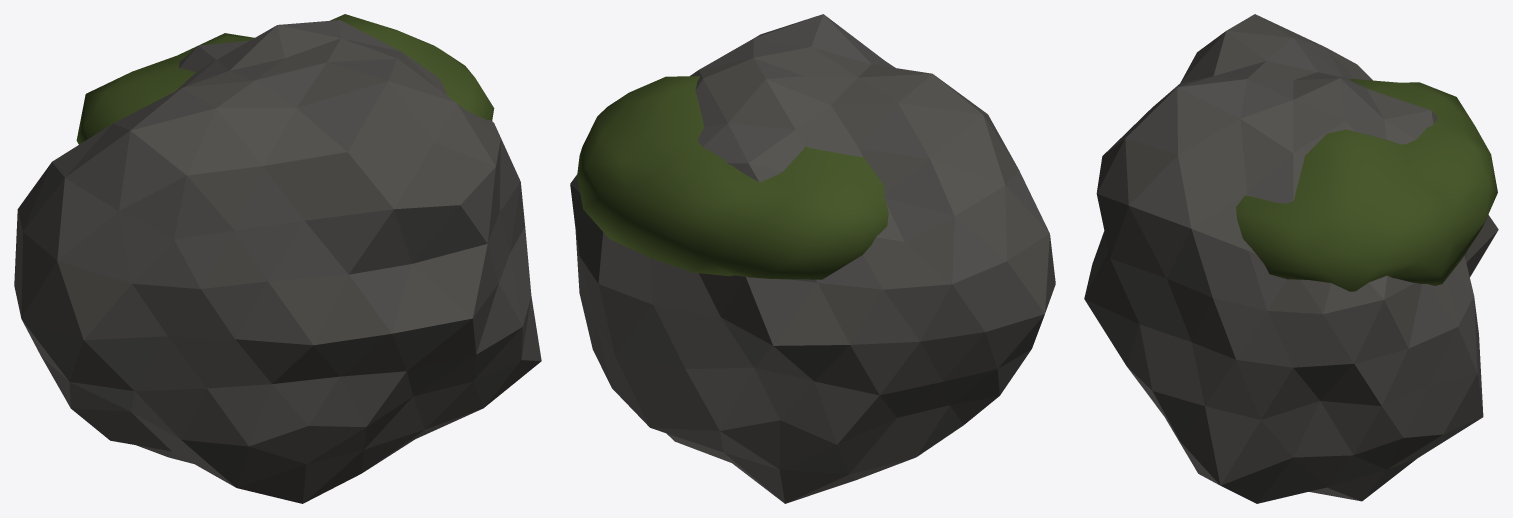
Rendered from Scenery_Rock_B.fbx.
3 views of the same model, side by side, from view 1: azimuth 30°, elevation 25°; view 2: azimuth 150°, elevation 25°; view 3: azimuth 270°, elevation 25° (orthographic). The views are drawn at different scales.
Parts seen in each view (by area): view 1: Scenery_Rock_B_Mesh; view 2: Scenery_Rock_B_Mesh; view 3: Scenery_Rock_B_Mesh.
Boxes of the visible parts, bbox=[...] form: Scenery_Rock_B_Mesh: bbox=[14, 14, 541, 503]; Scenery_Rock_B_Mesh: bbox=[570, 14, 1055, 503]; Scenery_Rock_B_Mesh: bbox=[1084, 14, 1498, 503].
Size of the model in its own units: 2.11 by 1.79 by 1.65.
